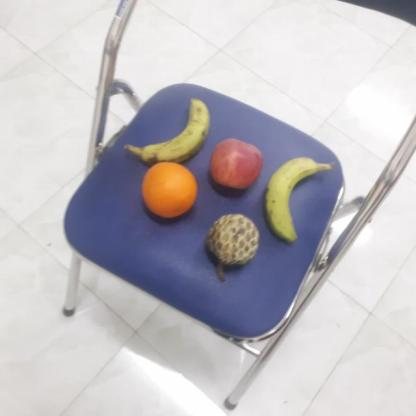annona: (206, 211, 260, 264)
apple: (209, 138, 262, 190)
banana: (138, 96, 212, 166), (264, 157, 324, 241)
orange: (140, 160, 196, 218)
